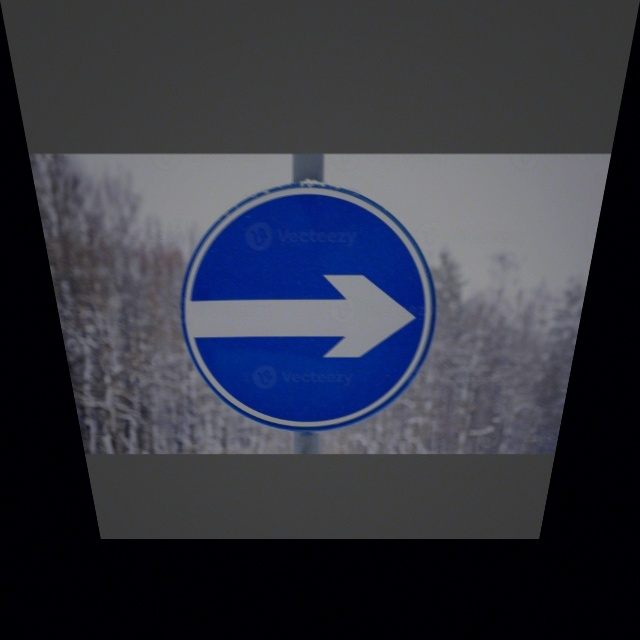Compulsory_Turn_Right: (167, 181, 447, 428)
